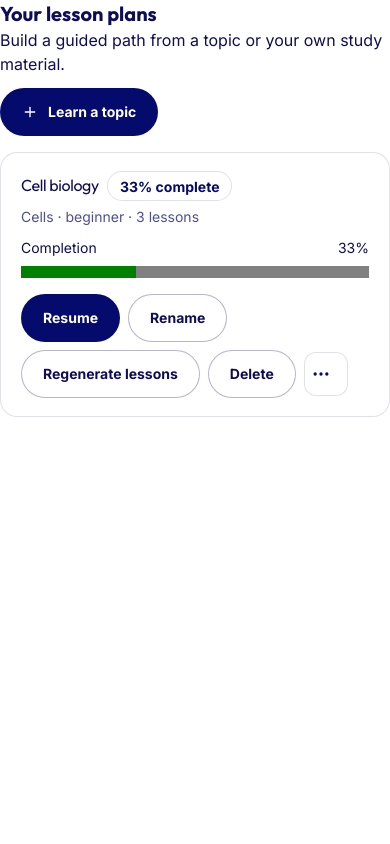
LessonsTab › lists plans with completion and resumes the last lesson step
Expected: the heading "Cell biology" is shown, x1=21 y1=173 x2=99 y2=199
Expected: the text "33%" is shown, x1=338 y1=238 x2=369 y2=258
Click the button "Resume" at (70, 318), box x1=21 y1=294 x2=120 y2=342
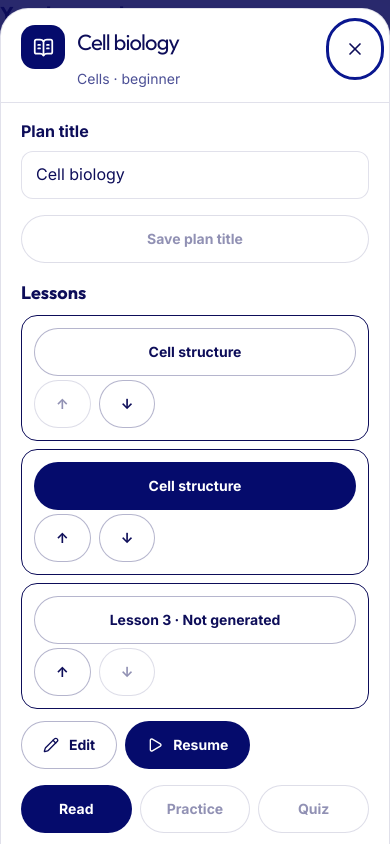
Now the dialog "Cell biology" is shown
Now the number of buttons "Cell structure" is 2, box x1=34 y1=328 x2=356 y2=376; x1=34 y1=462 x2=356 y2=510
